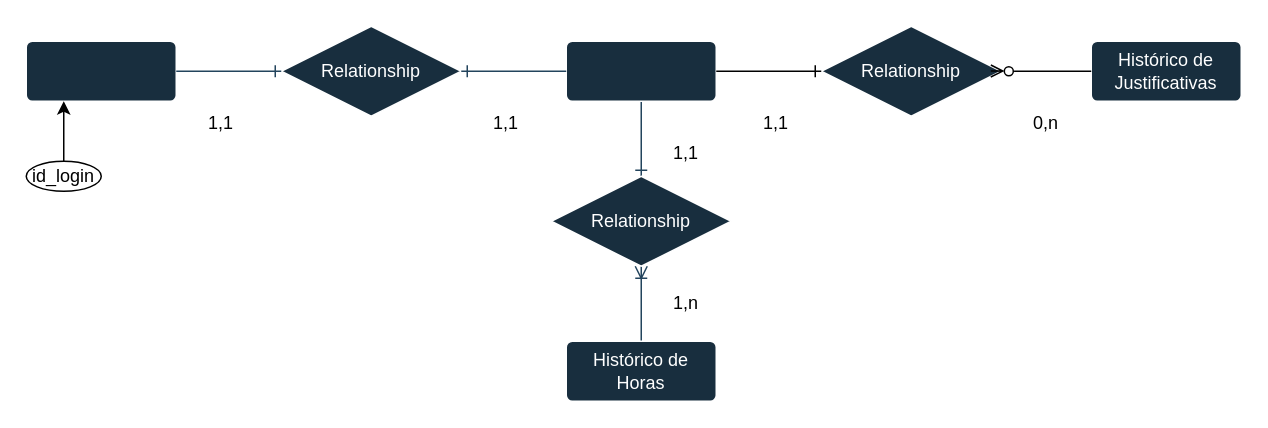
Some shapes in this 1268 by 428 pixel diagram are drawn without their labels. The shapes that lost their labels are listed below. From the top down, each one's centre as x and y in pixels, then its label:
At [100,70]: "Login".
At [640,70]: "Dados Funcionário".
